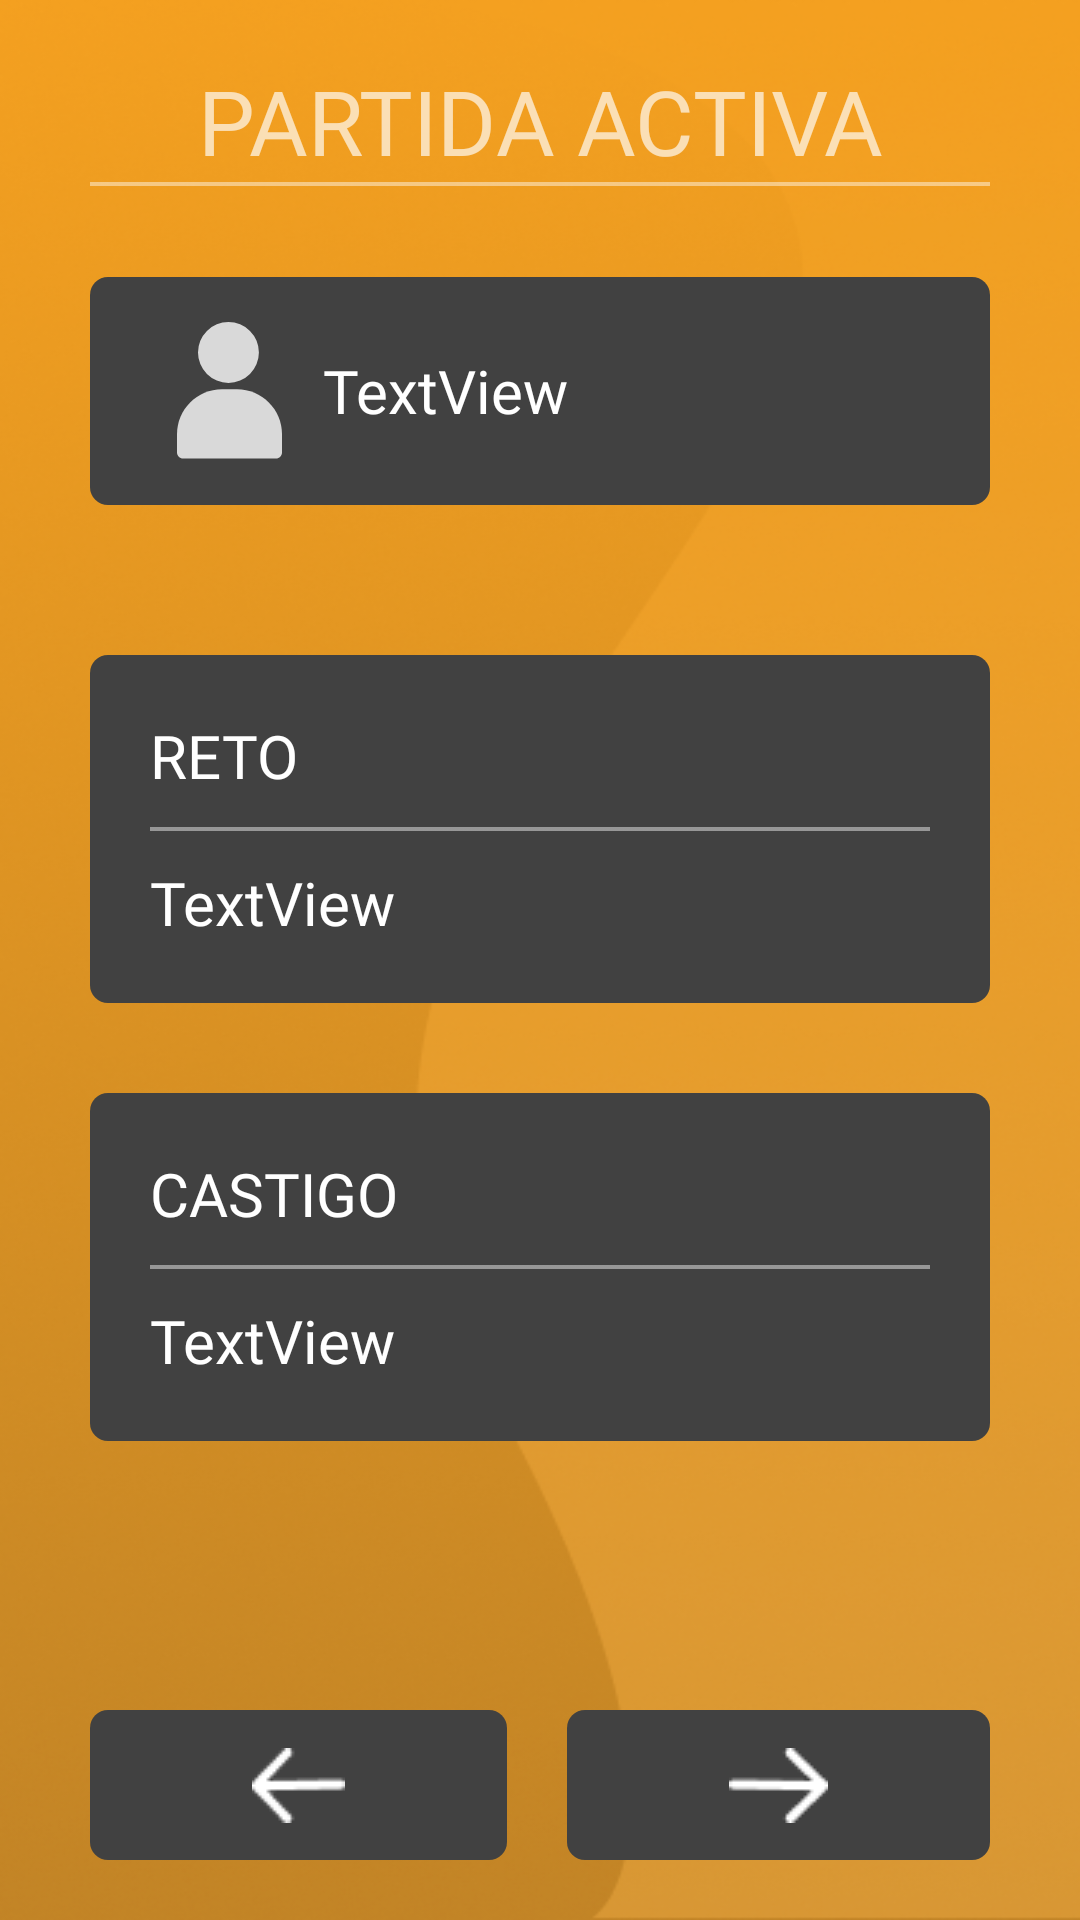

Where to tap for icons on this 1080 x 1920 app screen, as [x,y]:
perfil: [229,390]
